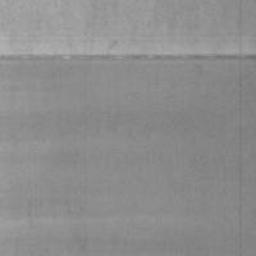Welding line: (0, 52, 256, 64)
